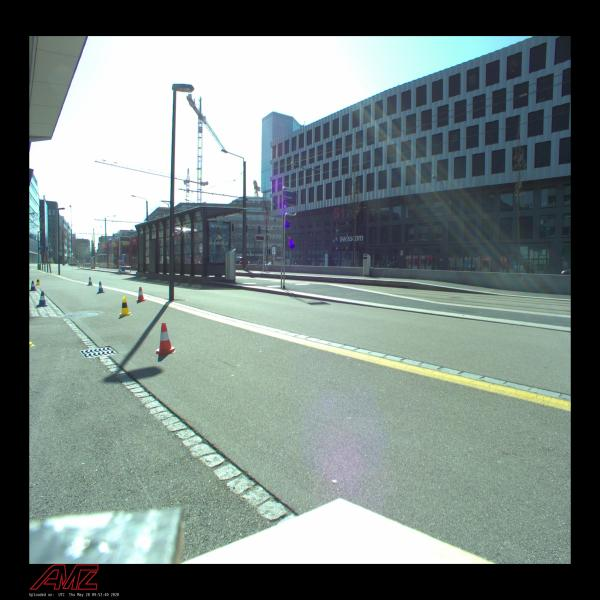blue_cone: (36, 291, 48, 307), (96, 282, 106, 294), (30, 280, 36, 291), (88, 277, 94, 286)
orange_cone: (156, 322, 176, 355), (137, 286, 146, 301)
yellow_cone: (120, 296, 131, 316), (36, 278, 41, 286)
